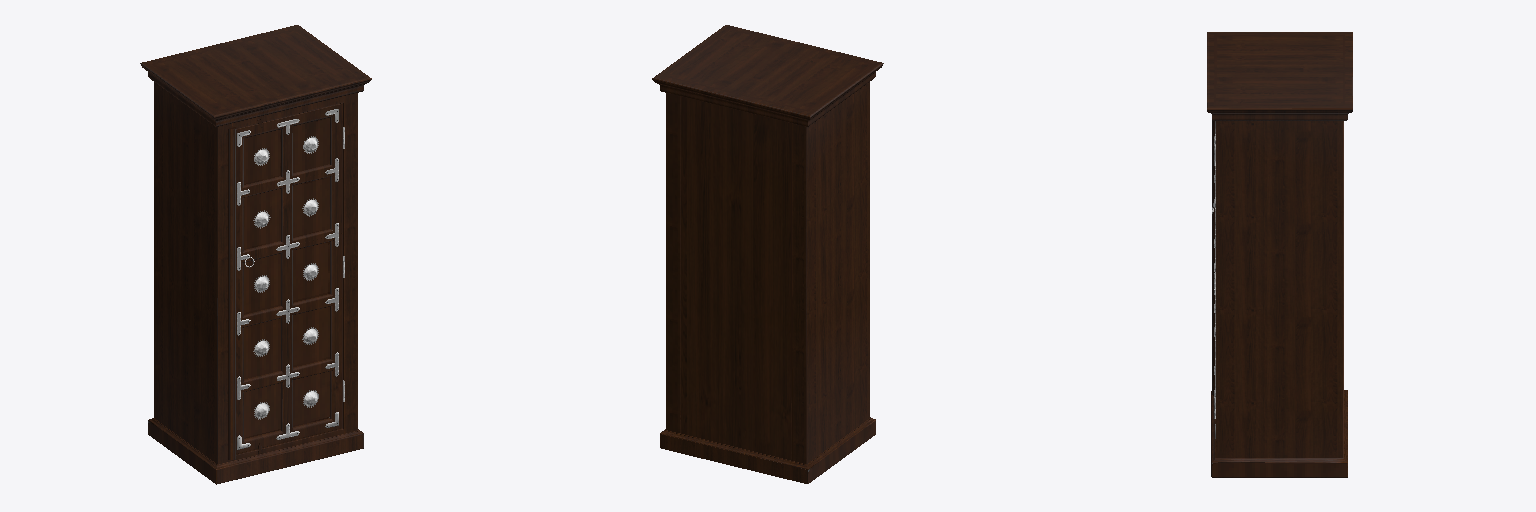
The picture shows the model from 3 angles: view 1: azimuth 30°, elevation 25°; view 2: azimuth 150°, elevation 25°; view 3: azimuth 270°, elevation 25°; orthographic projection.
Visible parts, largest first — view 1: solid_001, solid_003; view 2: solid_001; view 3: solid_001.
Part boxes in pixels (bbox=[...]): solid_001: bbox=[140, 25, 371, 484]; solid_003: bbox=[237, 109, 344, 449]; solid_001: bbox=[652, 25, 883, 483]; solid_001: bbox=[1207, 32, 1352, 477].
Bounding box in the file's own units: 0.7276 × 1.64 × 0.5864.
1 materials, 1 textured.